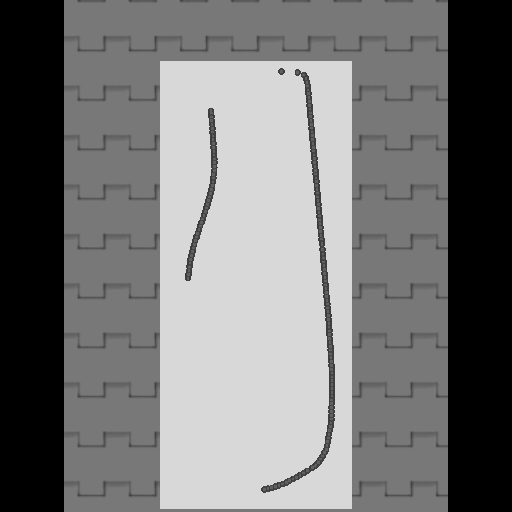Defect: (178, 276, 264, 499)
